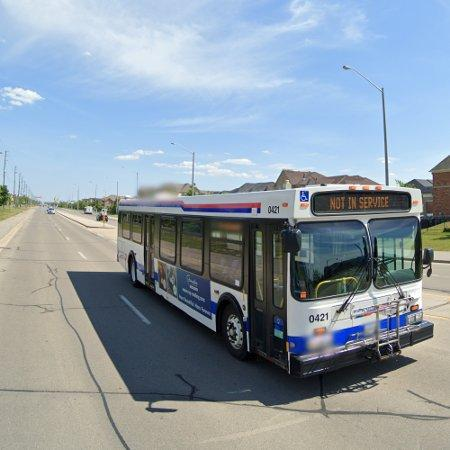buses: (117, 185, 435, 378)
